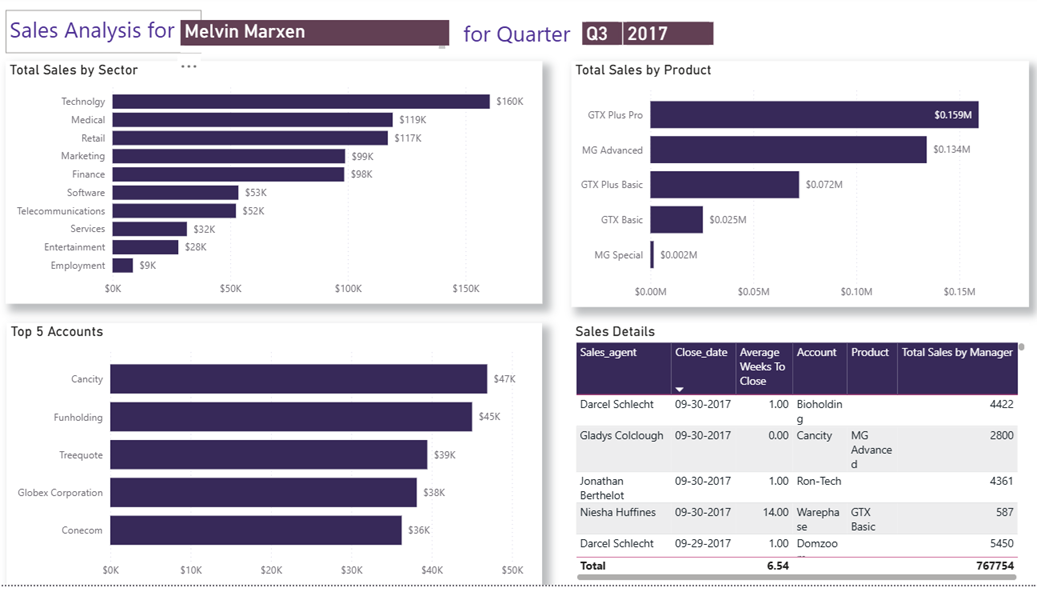

The dashboard page shown, as its layout file describes it:
{"tool":"powerbi","page":{"name":"Selected Quarter Sales by Manager","canvas":[1280,720],"ordinal":1},"visuals":[{"type":"clusteredBarChart","title":"Total Sales by Sector","fields":{"Y":["Measure.Total Sales by Manager"],"Category":["db_accounts.Sector"]},"box":[9.8,79.7,656.7,297.1],"z":0},{"type":"clusteredBarChart","title":"Total Sales by Product","fields":{"Y":["Measure.Total Sales by Manager"],"Category":["db_products.Product"]},"box":[701.9,79.7,560.1,300.8],"z":2000},{"type":"clusteredBarChart","title":"Top 5 Accounts","fields":{"Y":["Measure.Total Sales by Manager"],"Category":["db_accounts.Account"]},"box":[11,399.9,655.4,320.4],"z":3000},{"type":"tableEx","title":"Sales Details","fields":{"Values":["db_sales_teams.Sales_agent","db_sales_pipeline.Close_date","Measure.Average Weeks To Close","db_accounts.Account","db_products.Product","Measure.Total Sales by Manager"]},"box":[701.9,399.9,560.1,320.4],"z":4000},{"type":"textbox","box":[9.8,17.1,239.7,52.6],"z":5000},{"type":"textbox","box":[223.6,28.9,328.9,40.4],"z":6000},{"type":"textbox","box":[564.9,22,150.4,47.7],"z":7000},{"type":"textbox","box":[715.4,31.8,48.9,28.1],"z":8000},{"type":"textbox","box":[765.5,31.8,110.1,28.1],"z":9000}]}

Visuals, with their boxes in screenshot pixels (x1, y1, x2, y2), scaled from the page's 1280x720 canvas onto the 1041x590 screenshot:
"Total Sales by Sector" clusteredBarChart: 8/65/542/309
"Total Sales by Product" clusteredBarChart: 571/65/1026/312
"Top 5 Accounts" clusteredBarChart: 9/328/542/589
"Sales Details" tableEx: 571/328/1026/589
textbox: 8/14/203/57
textbox: 182/24/449/57
textbox: 459/18/582/57
textbox: 582/26/622/49
textbox: 623/26/712/49
